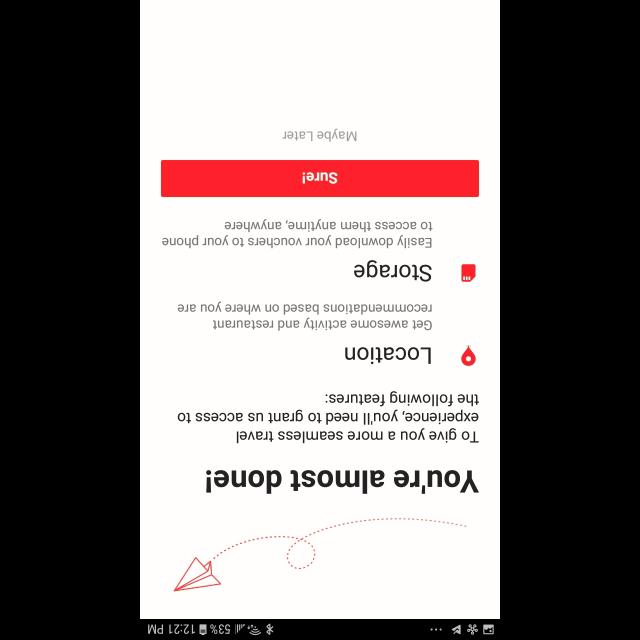icon: (460, 346, 476, 366), (461, 264, 475, 282)
image: (174, 517, 466, 591)
text: (177, 391, 479, 444), (162, 219, 432, 249), (176, 302, 432, 331), (206, 470, 478, 494), (354, 260, 432, 282), (345, 348, 431, 364), (282, 129, 356, 143)
textbutton: (161, 160, 479, 197)
uppertaskbar: (140, 618, 500, 640)
